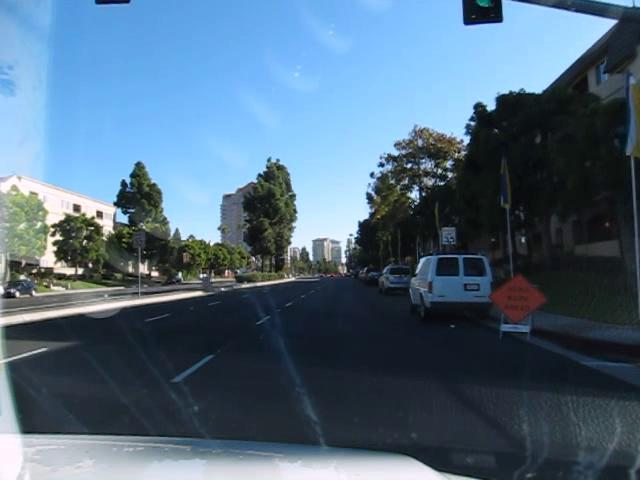speedLimit35: (440, 226, 456, 245)
